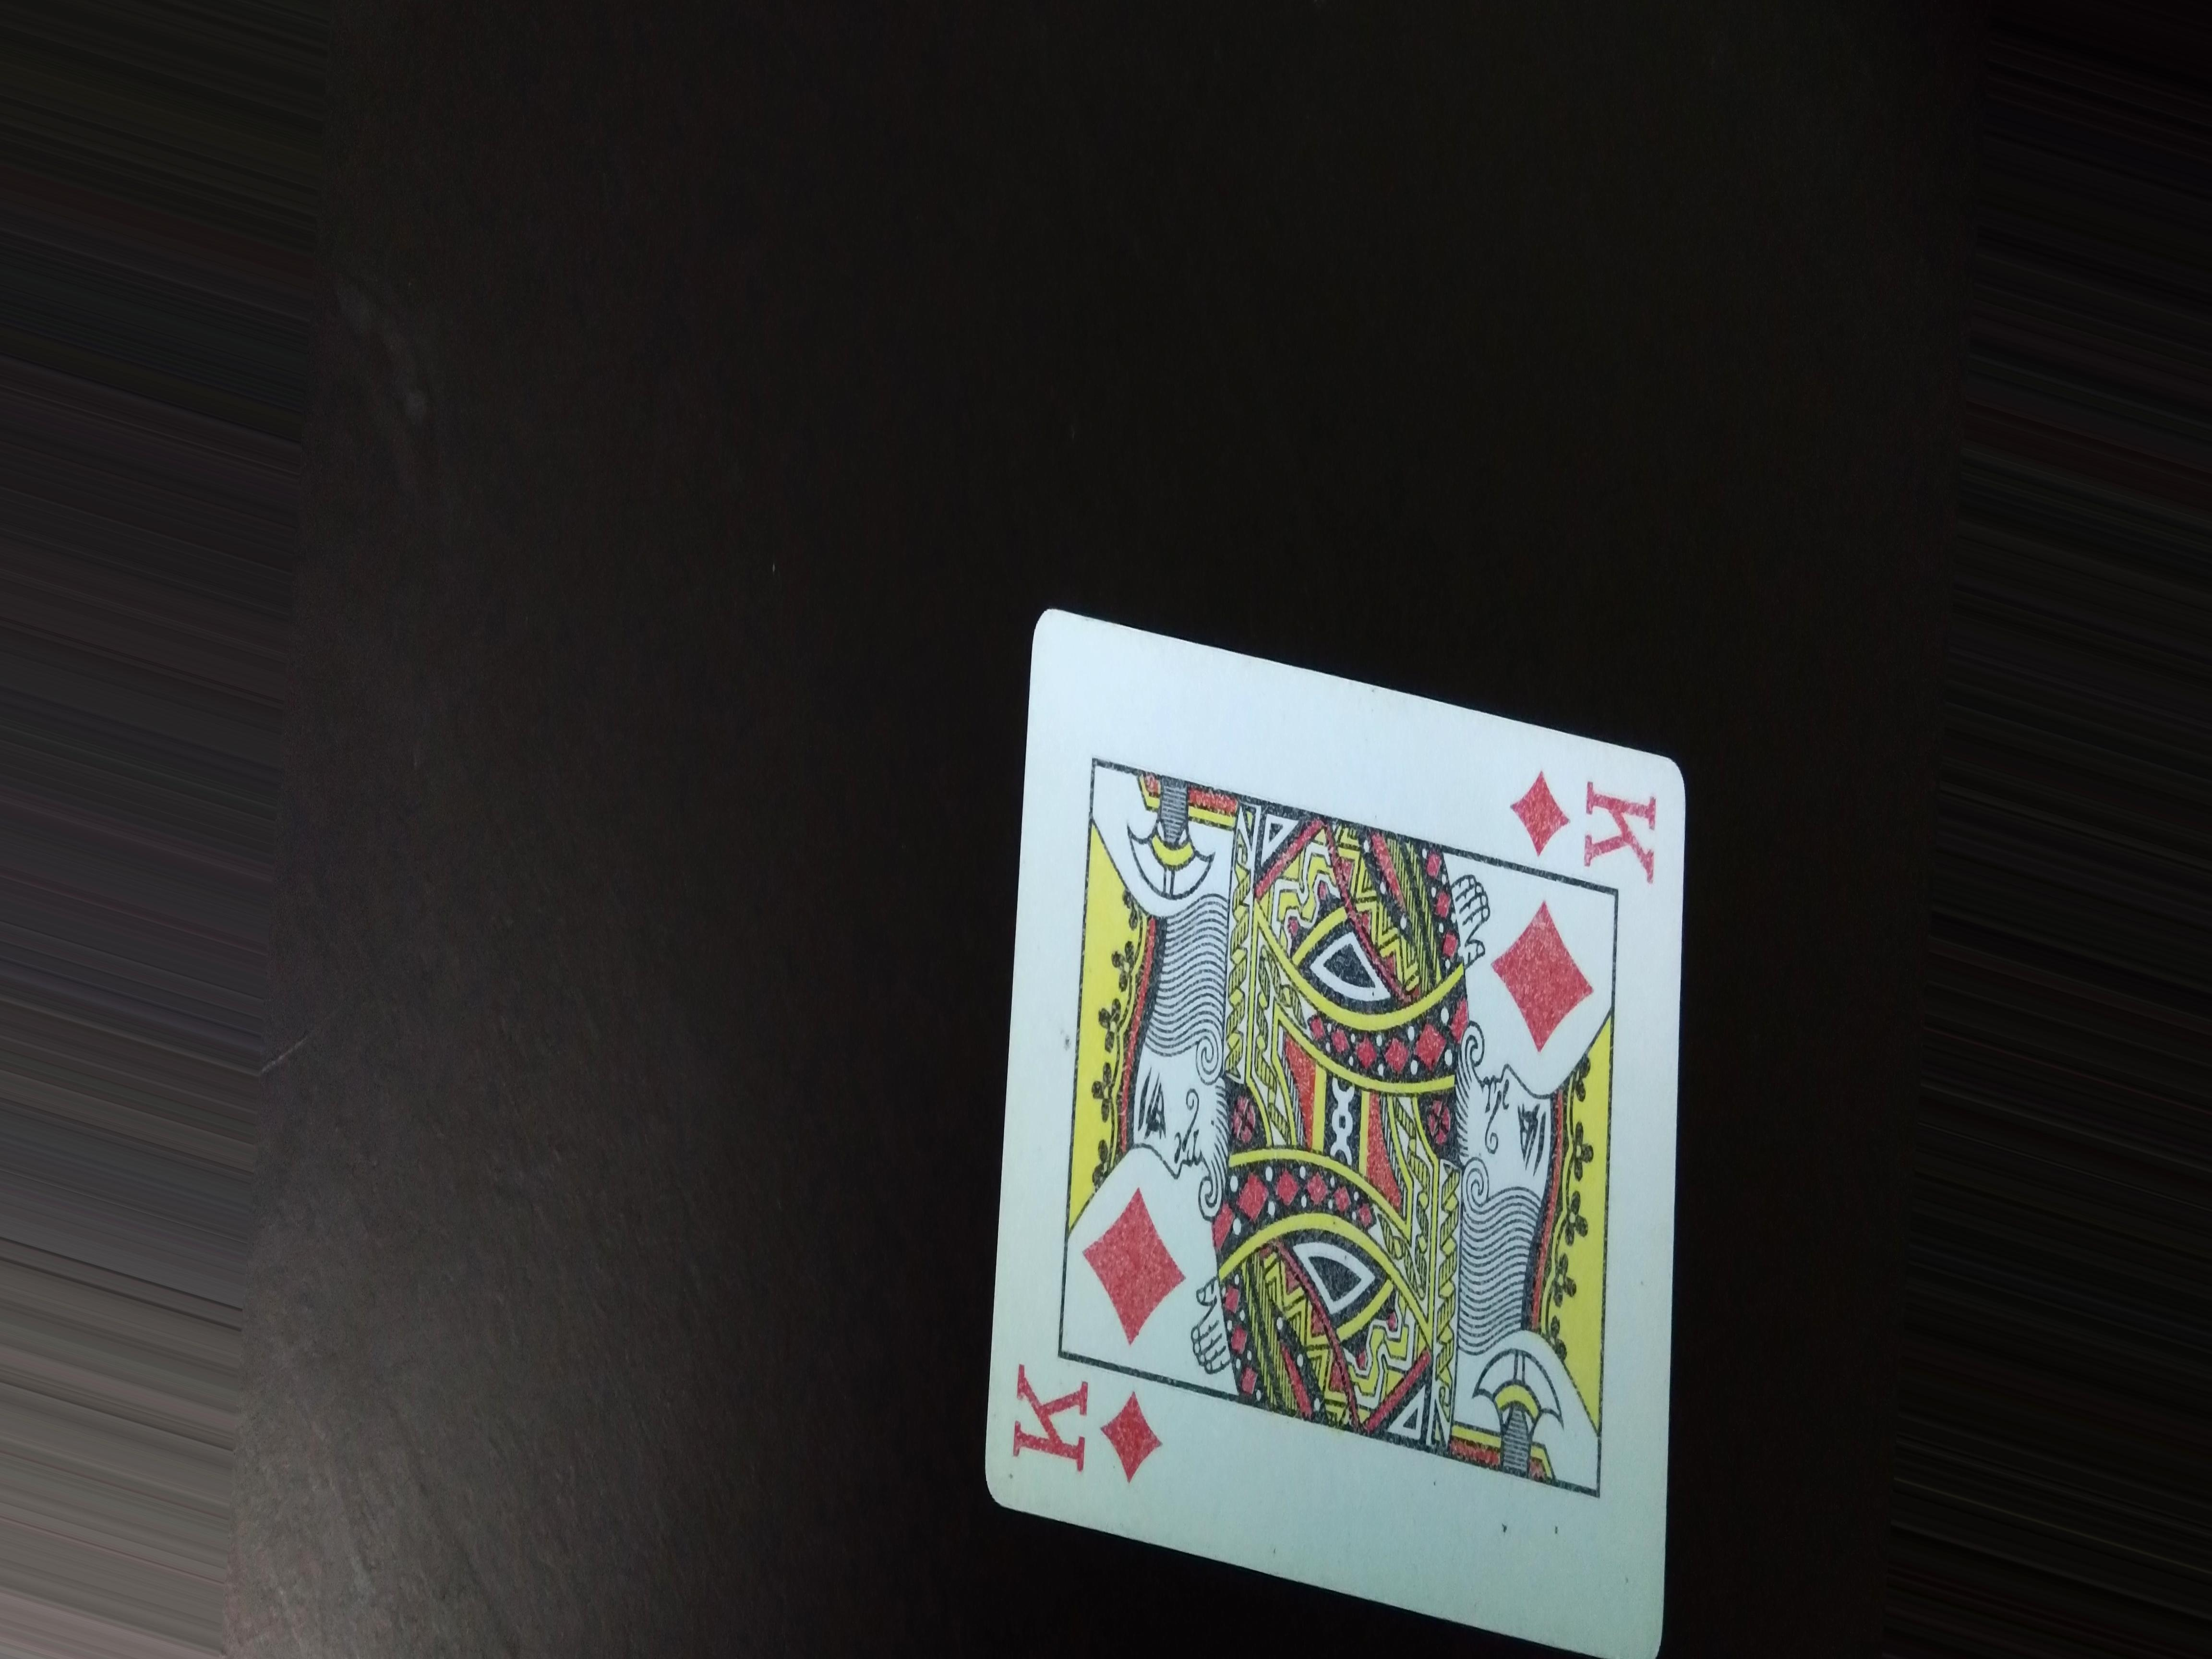KD: (1507, 749, 1674, 884)
